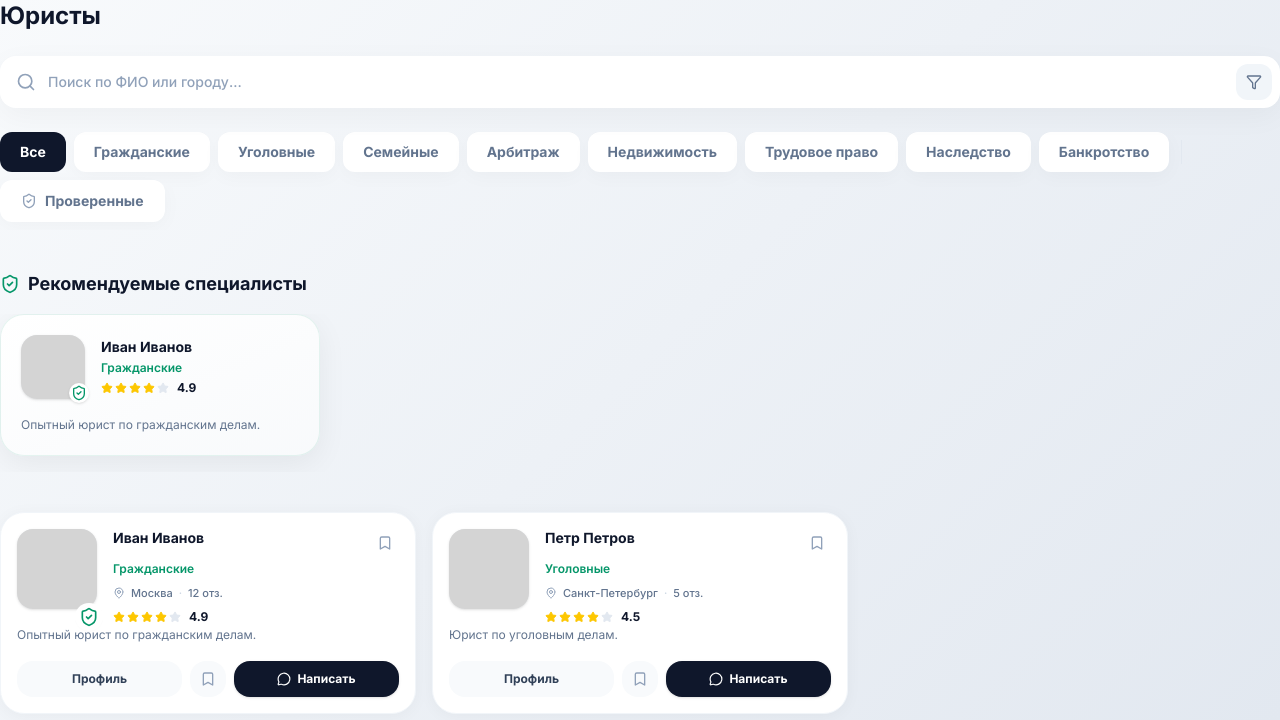
Test: Lawyers page › opens lawyer modal on click
What coordinates should you click on to do the following:
click the heading "Иван Иванов" below "Рекомендуемые специалисты"
I would click on:
 (149, 347)
Its box is x1=101 y1=338 x2=196 y2=356.
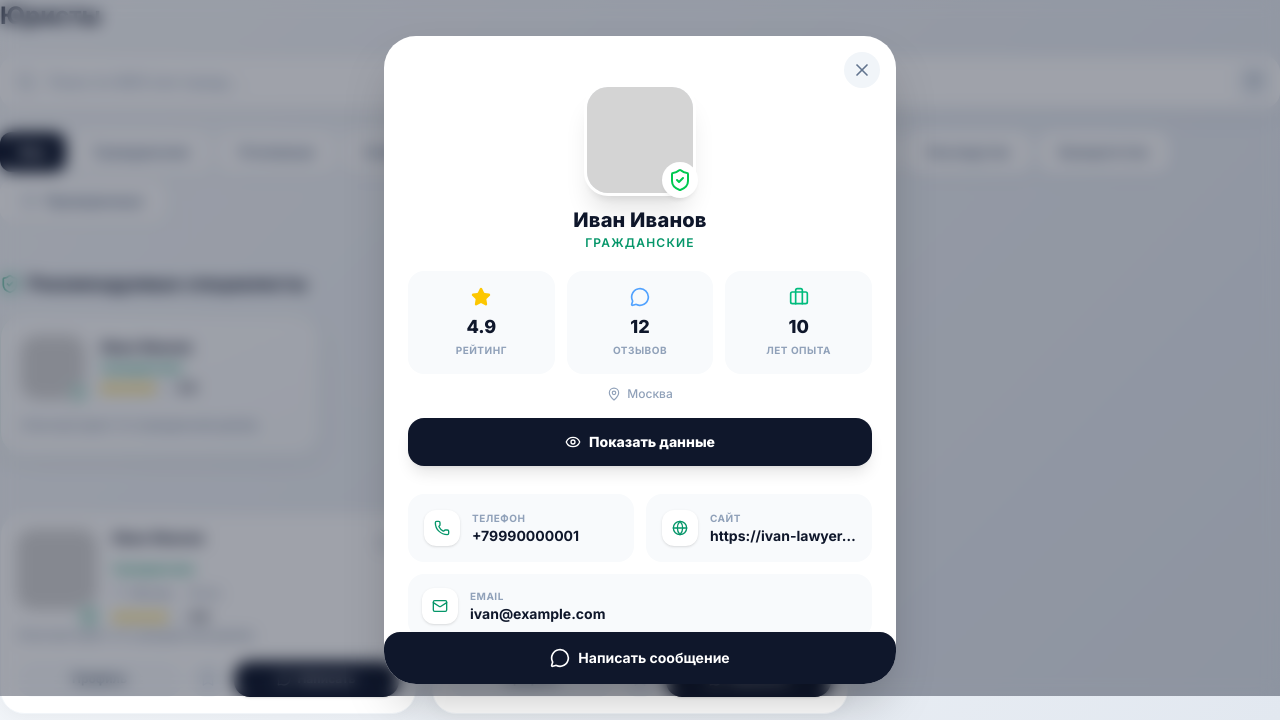
Now the button "Написать сообщение" is shown, box x1=384 y1=632 x2=896 y2=684
